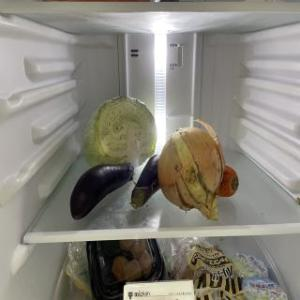cabbage: (84, 95, 154, 167)
carrot: (218, 162, 240, 198)
eggplant: (70, 161, 132, 221), (132, 150, 162, 214)
onion: (157, 126, 227, 220)
